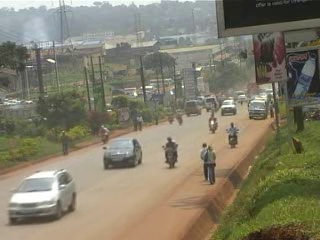Car: (5, 166, 79, 225), (100, 134, 145, 171)
Motorcycle: (158, 143, 180, 170), (223, 126, 241, 149), (207, 116, 218, 135), (99, 129, 110, 146), (175, 113, 183, 126), (164, 113, 173, 124)
